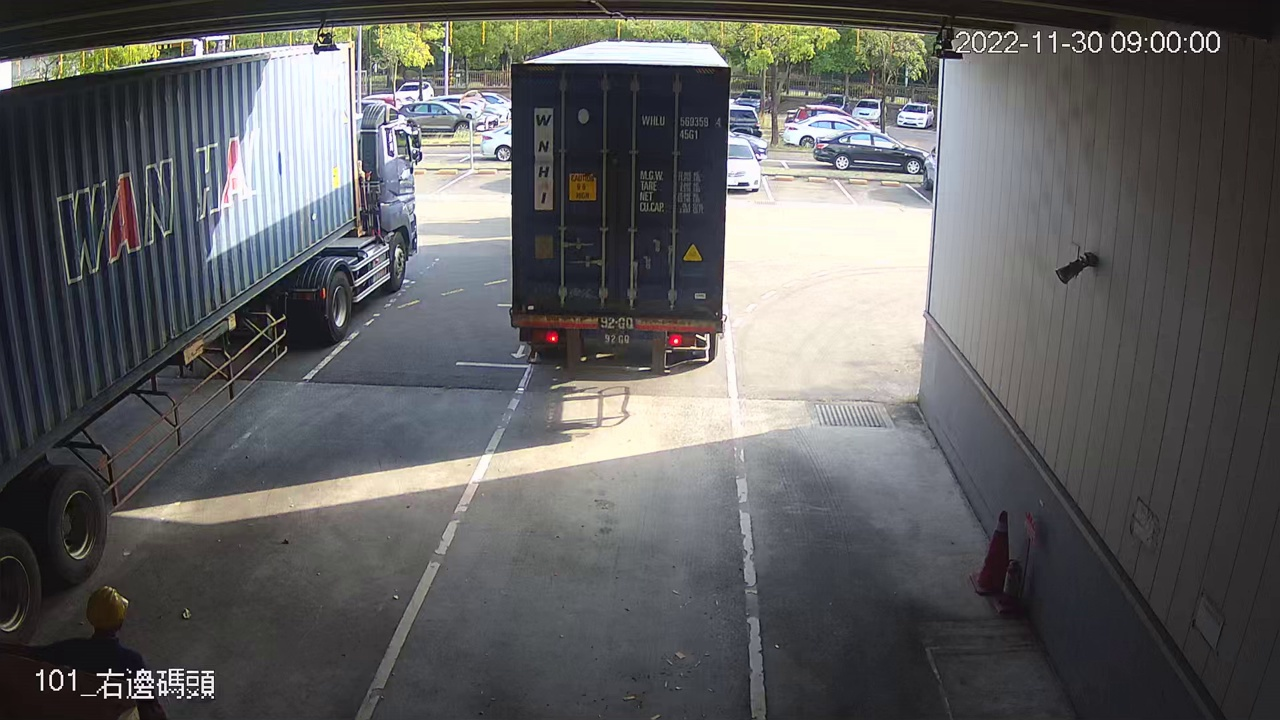container: (637, 108, 724, 143)
